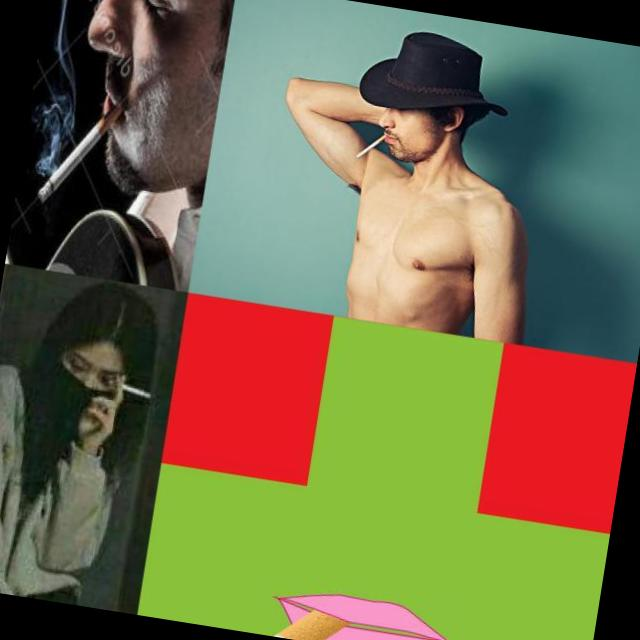cigarette: (34, 90, 126, 216), (354, 129, 388, 164), (106, 378, 154, 400)
